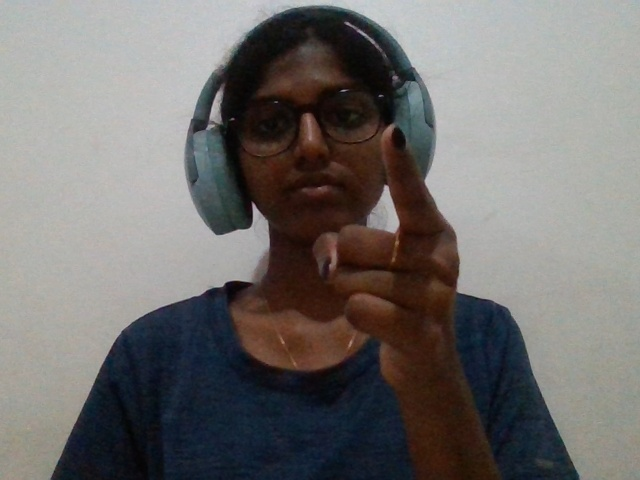You: (290, 103, 493, 450)
